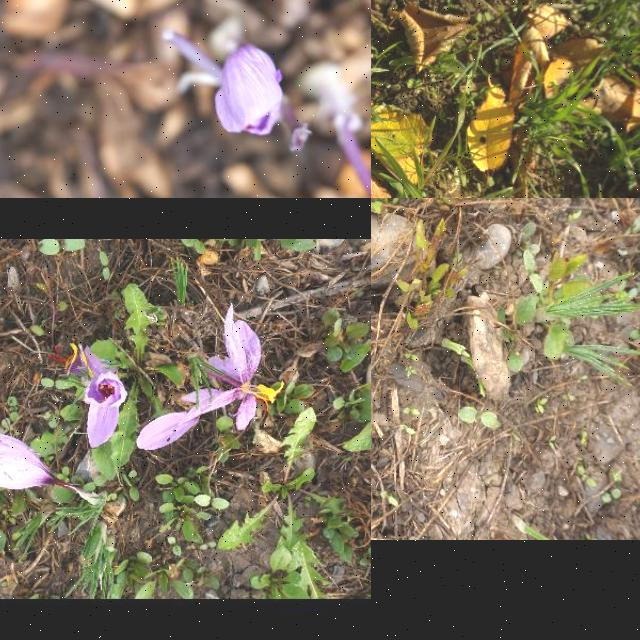flower: (215, 45, 283, 135), (84, 372, 128, 450), (0, 430, 56, 490)
